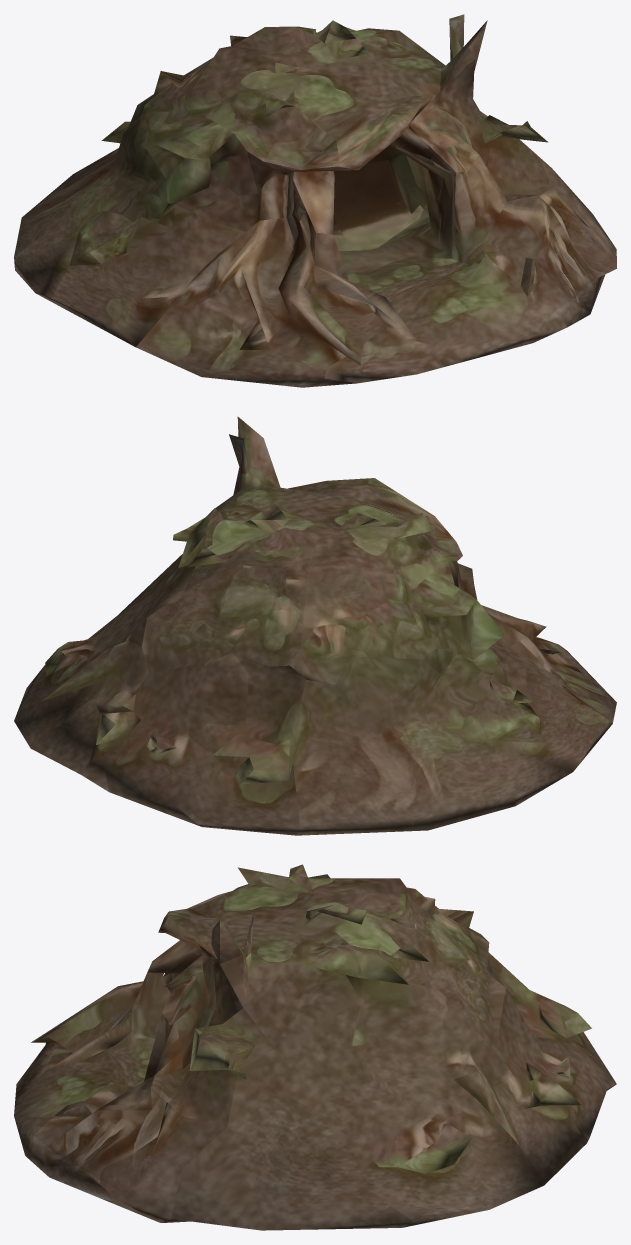
The model's file is Burrow.glb.
3 renders of one model, top to bottom at view 1: azimuth 30°, elevation 25°; view 2: azimuth 150°, elevation 25°; view 3: azimuth 270°, elevation 25°, orthographic. The views are drawn at different scales.
Parts seen in each view (by area): view 1: Burrow; view 2: Burrow; view 3: Burrow.
Boxes of the visible parts, box(x1,y1,x2,y2) form: Burrow: box(14, 14, 616, 387); Burrow: box(14, 416, 616, 835); Burrow: box(14, 864, 616, 1230).
Bounding box in the file's own units: 0.9981 × 0.4623 × 0.9699.
1 material, 1 textured.
